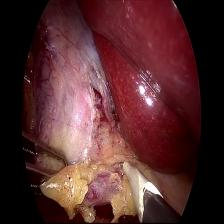Grasper: (19, 131, 71, 191)
Hook: (120, 159, 163, 222)
